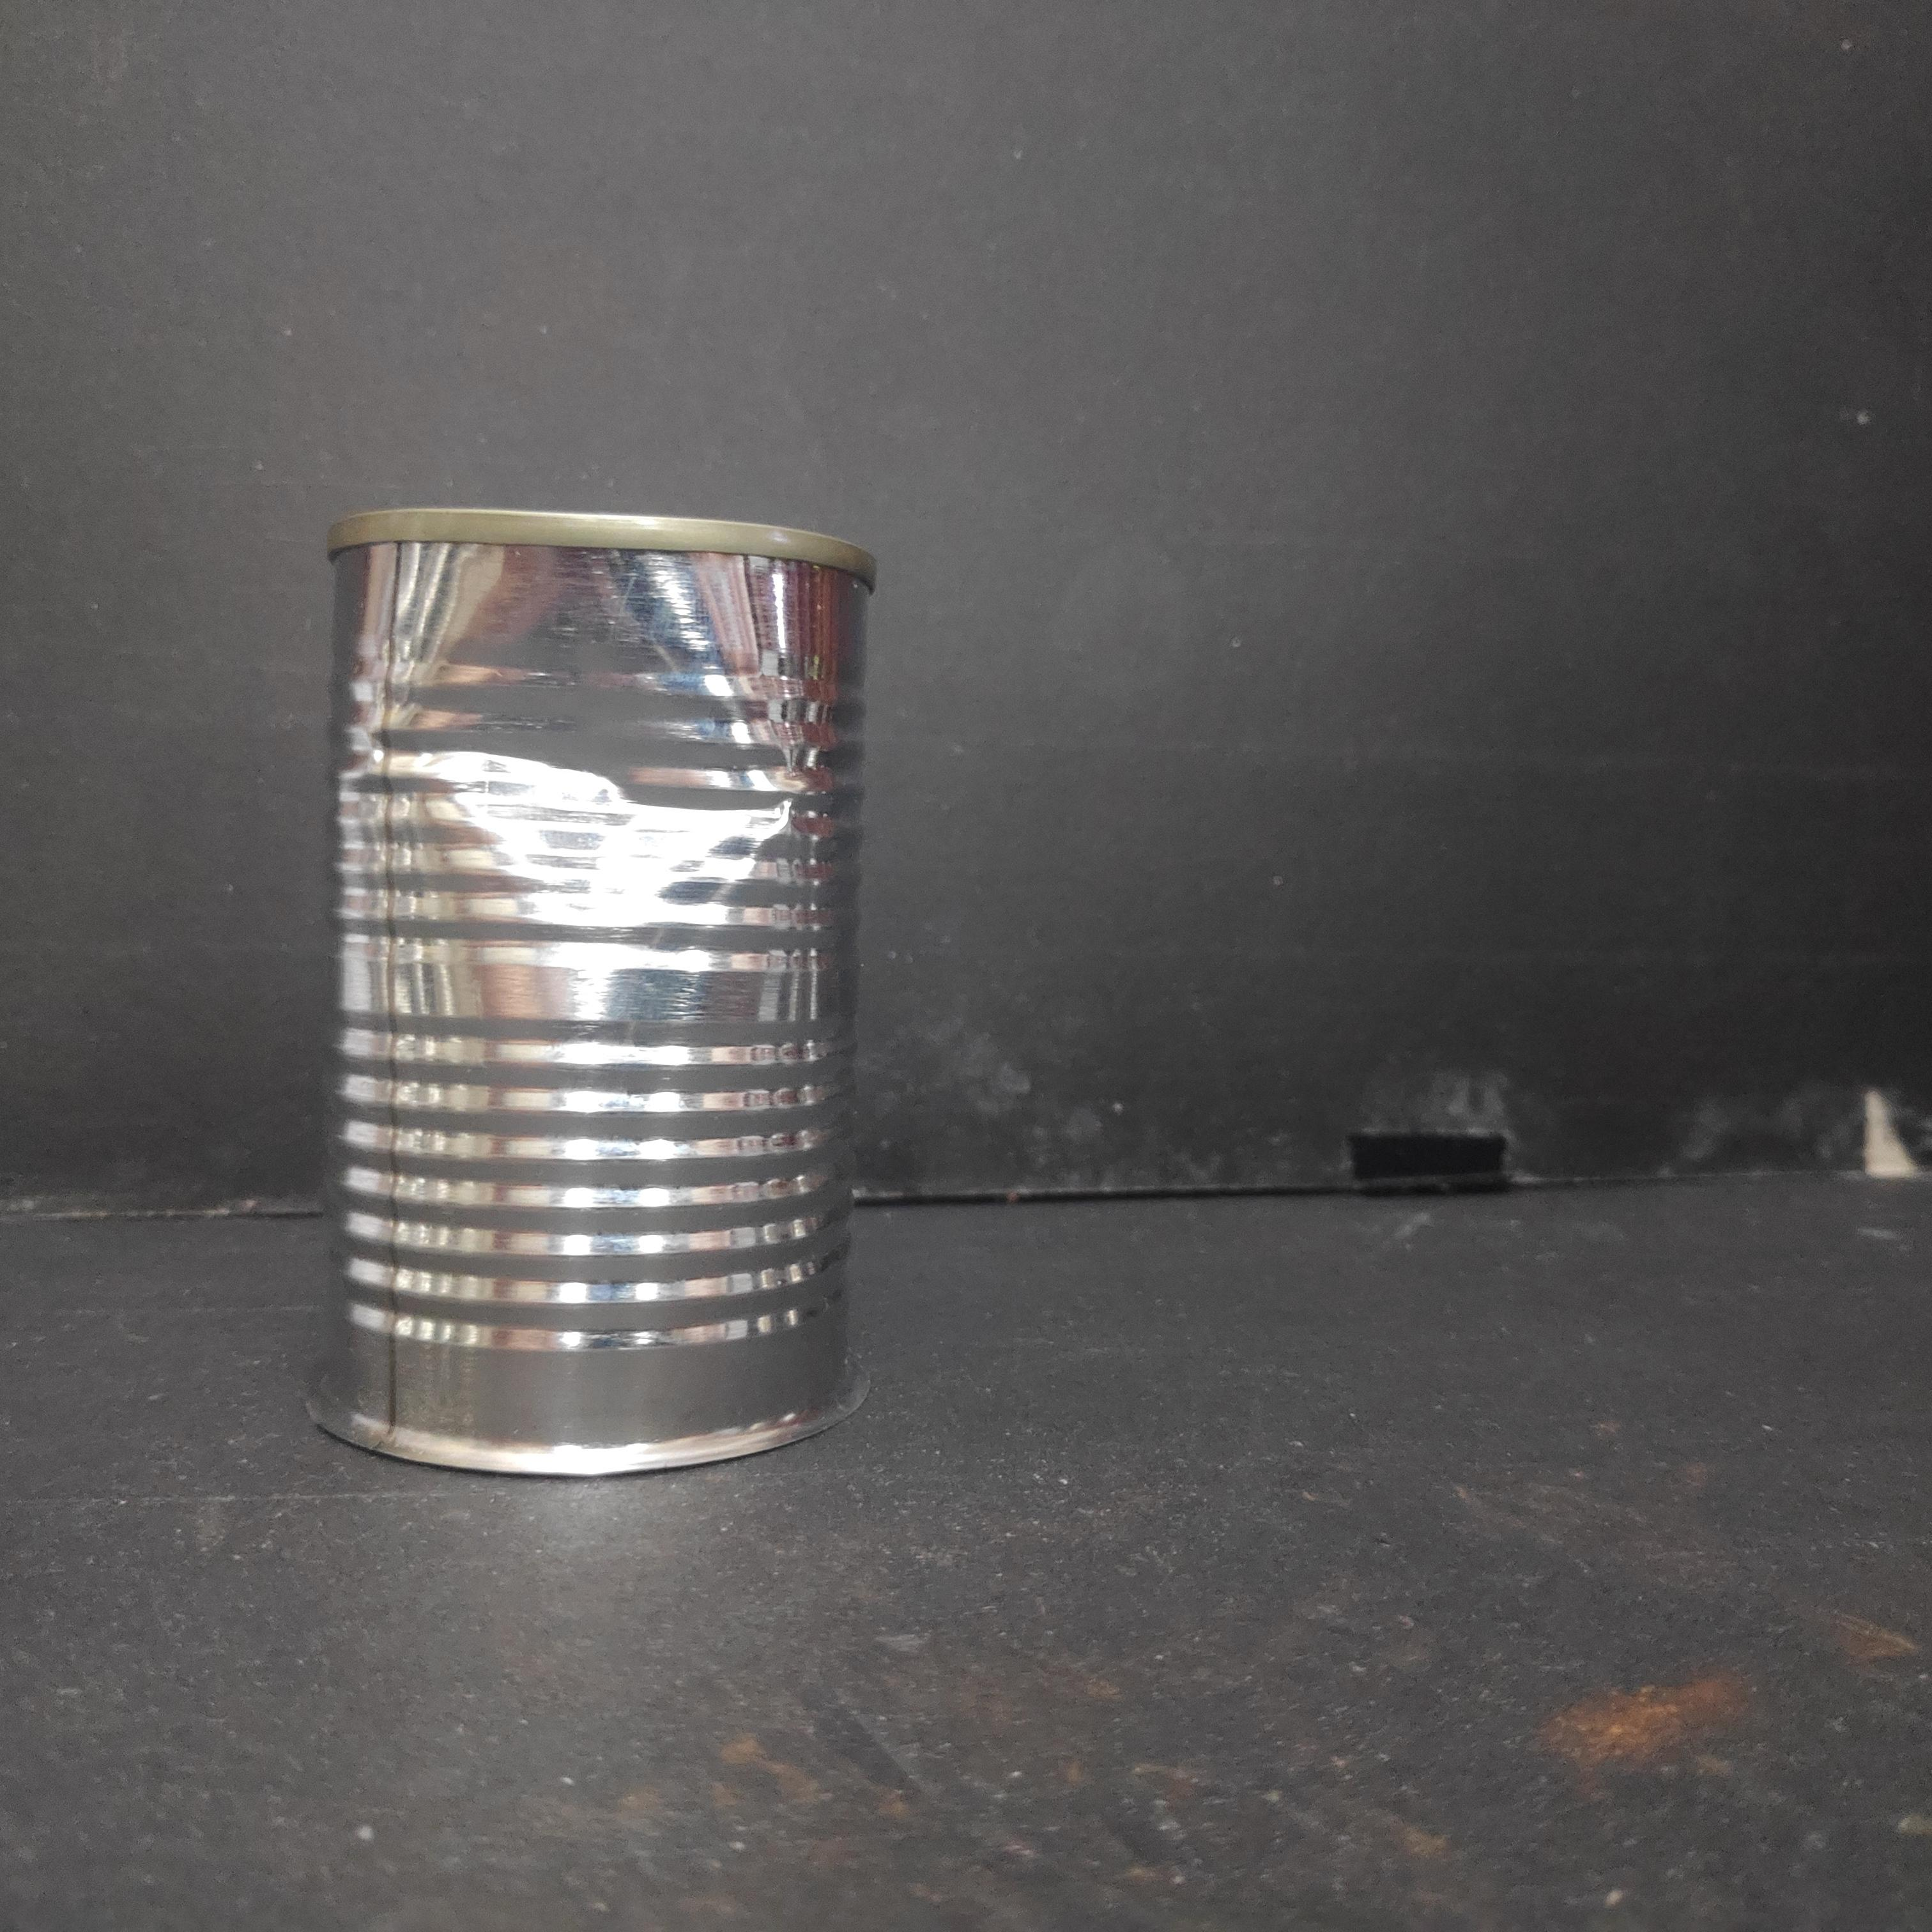Minor Defect: (299, 487, 886, 1488)
